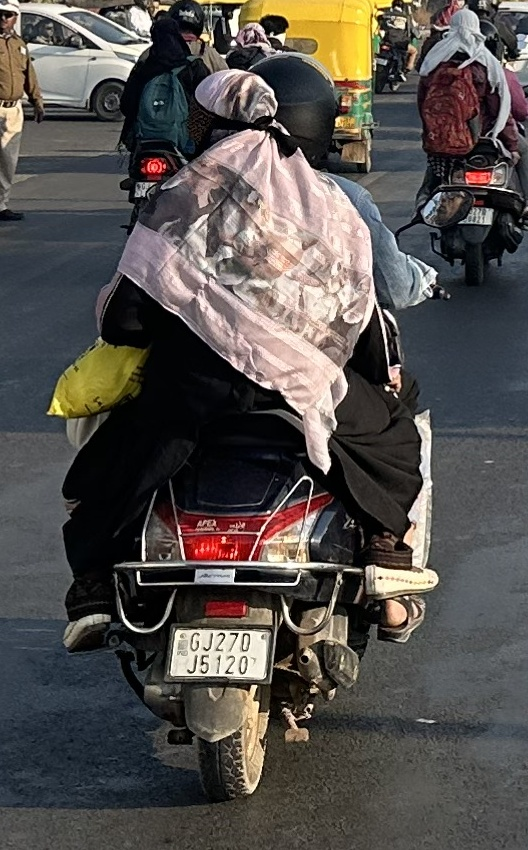BikeWithRider: (53, 53, 436, 799), (410, 5, 528, 295), (114, 1, 229, 230)
Helmet: (165, 0, 204, 39), (477, 21, 502, 56)
NoHelmet: (187, 70, 282, 165), (146, 17, 186, 59), (446, 8, 480, 48)
